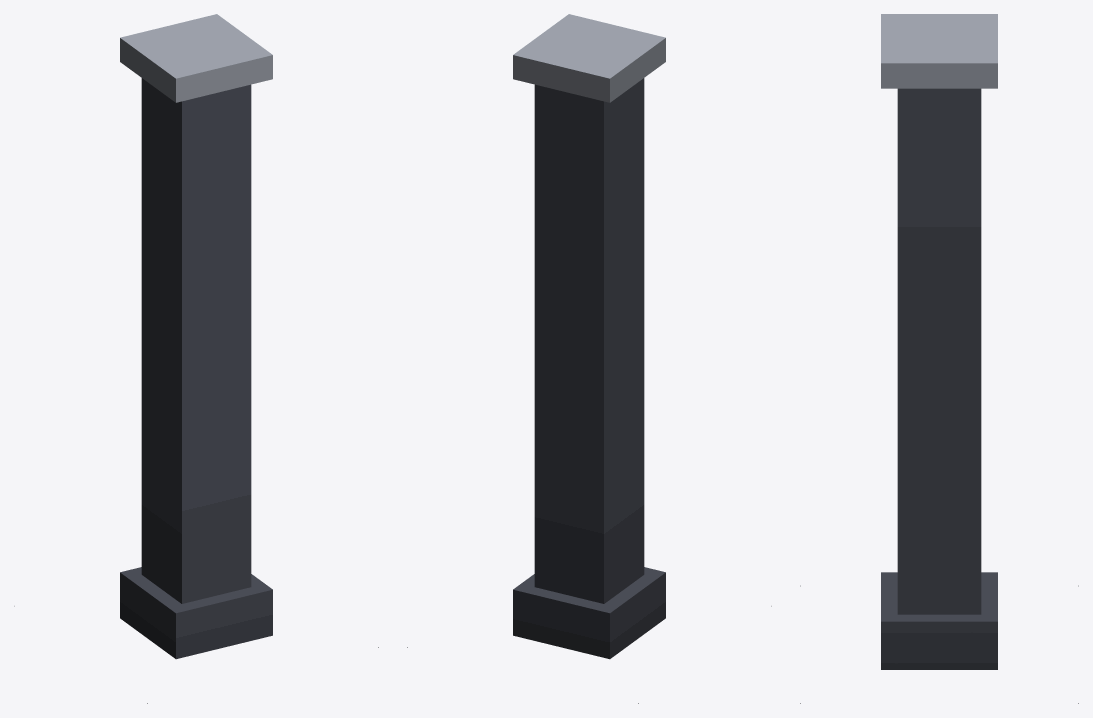
The model's file is wall_metal.glb.
The picture shows the model from 3 angles, left to right: view 1: azimuth 30°, elevation 25°; view 2: azimuth 150°, elevation 25°; view 3: azimuth 270°, elevation 25°; orthographic projection. The views are drawn at different scales.
Size of the model in its own units: 1 by 2.4 by 1.
Materials: 1 (1 with a texture image).
